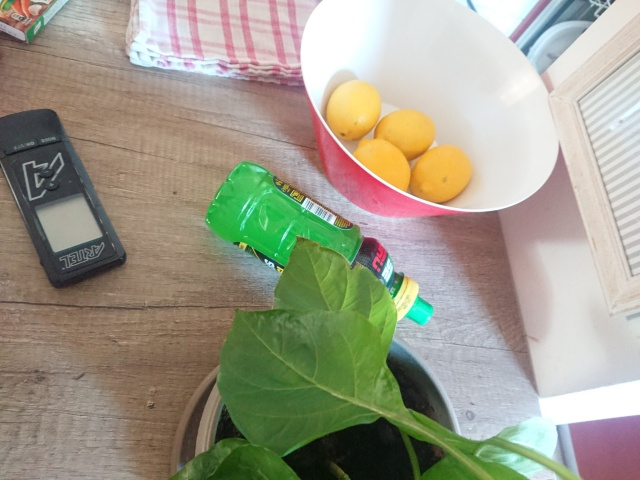Vindi Iso Sport Lemon-Grapefruit 500mL: (201, 159, 436, 328)
